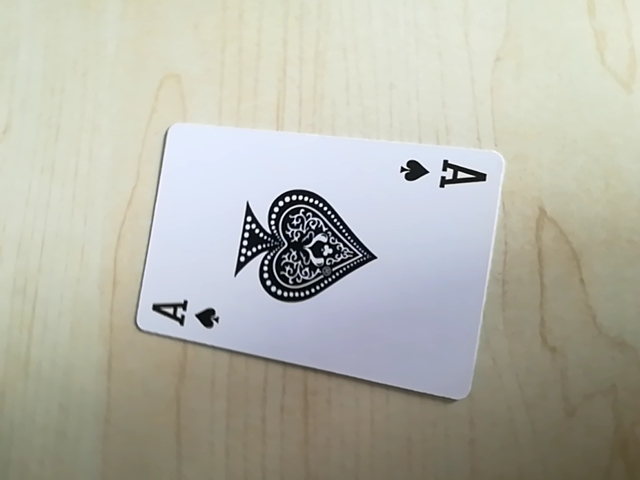ht a: (394, 155, 487, 197), (143, 295, 229, 334)
